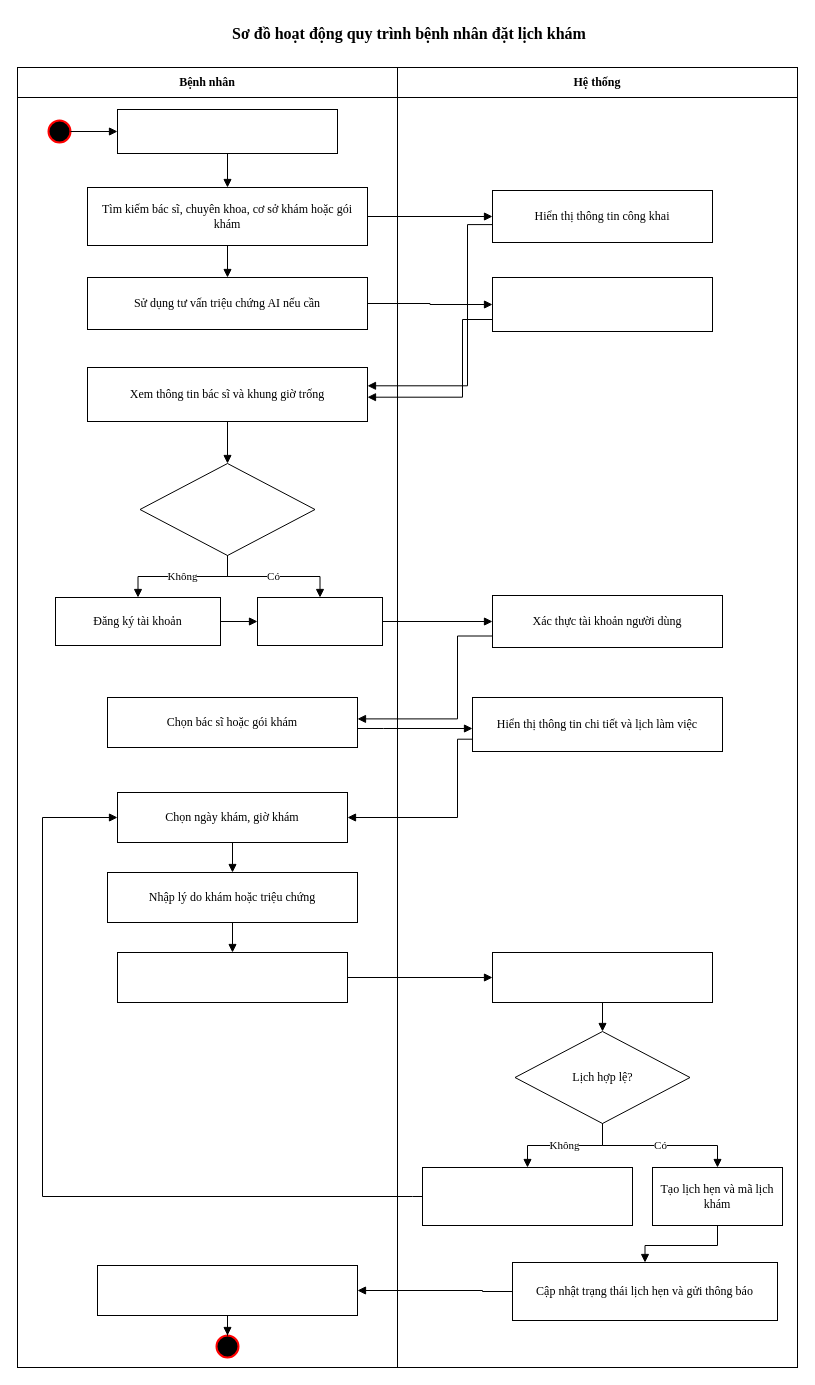
Image size: 815x1385. Some labels were removed from this diagram. The centre of each missing label's shape, as x and y in pixels:
1. Truy cập hệ thống: (227,131)
Gợi ý chuyên khoa hoặc hướng khám phù hợp: (602,304)
Gửi yêu cầu đặt lịch: (232,977)
Kiểm tra thông tin đặt lịch: (602,977)
Theo dõi trạng thái lịch hẹn: (227,1290)
Thông báo lỗi / yêu cầu chọn lịch khác: (527,1196)
Đã có tài khoản?: (227,509)
Đăng nhập: (319,621)
